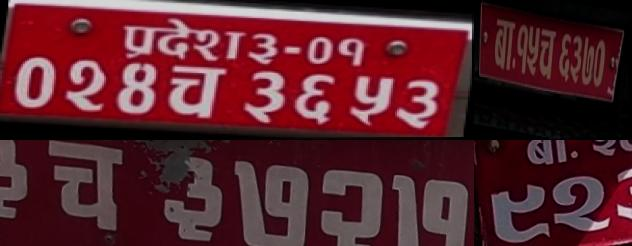0: (7, 51, 62, 111), (300, 33, 336, 67), (593, 35, 606, 92)
1: (331, 36, 371, 70), (514, 20, 529, 84)
2: (311, 160, 391, 246), (545, 171, 617, 237), (57, 55, 116, 116)
3: (146, 146, 231, 246), (0, 140, 40, 236), (234, 66, 291, 126), (392, 74, 447, 134), (609, 161, 632, 230), (243, 31, 283, 65), (569, 32, 583, 88)
4: (111, 59, 165, 120)
5: (342, 71, 401, 131), (526, 23, 541, 82), (579, 140, 620, 161)
6: (290, 69, 345, 132), (558, 29, 572, 90)
7: (220, 149, 318, 246), (379, 163, 474, 246), (580, 34, 594, 90)
9: (480, 177, 557, 246)
ba: (517, 140, 577, 170), (492, 16, 516, 80)
cha: (36, 140, 134, 244), (159, 62, 231, 124), (538, 27, 557, 89)
